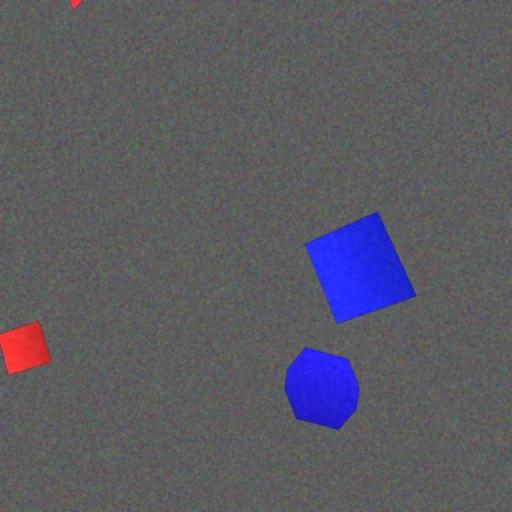BLUE_SQUARE: (303, 210, 418, 324)
RED_SQUARE: (0, 320, 52, 375)
